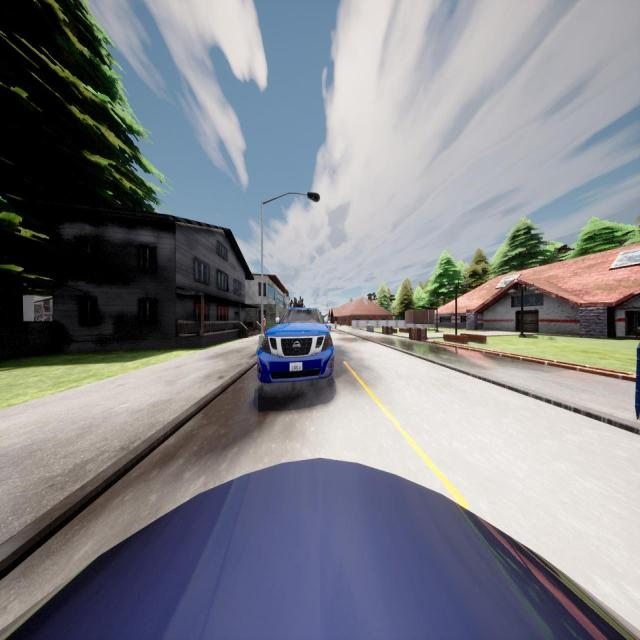Pedestrian: (264, 314, 266, 335)
Vehicle: (1, 458, 640, 640), (257, 307, 334, 383)
